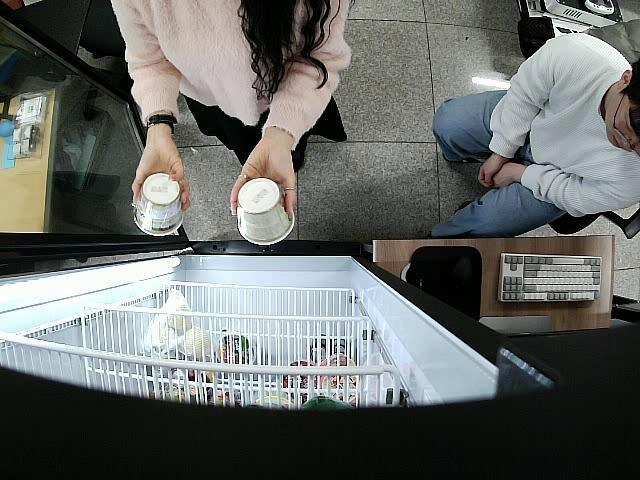04_chapagetti_S: (232, 176, 296, 246), (130, 173, 186, 238)
